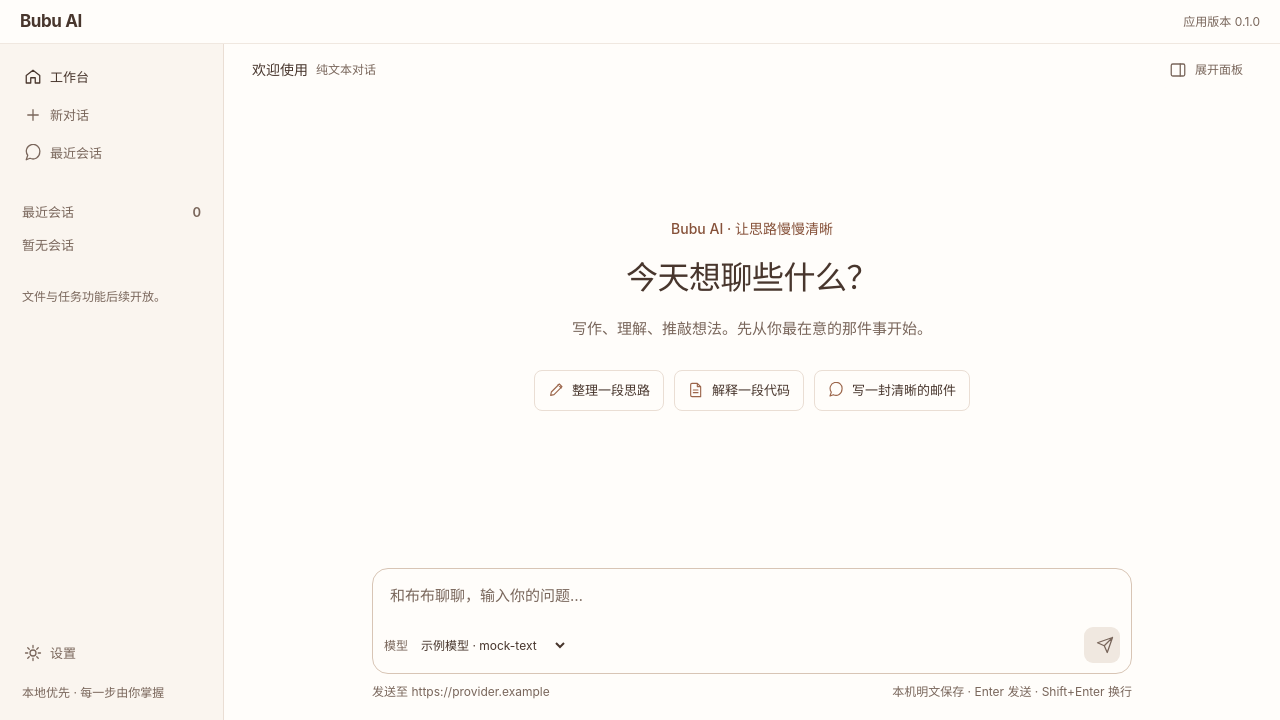
Test: real React text-chat UI with an explicitly mocked bridge › uses the real cancel API, preserves partial text and restores input focus after stop
This screenshot has width=1280, height=720.
Expected: the text "应用版本 0.1.0" is shown, [1183, 12, 1260, 31]
Type "你好，布布" into the text box named "消息输入". click: (752,597)
box: [373, 569, 1131, 625]
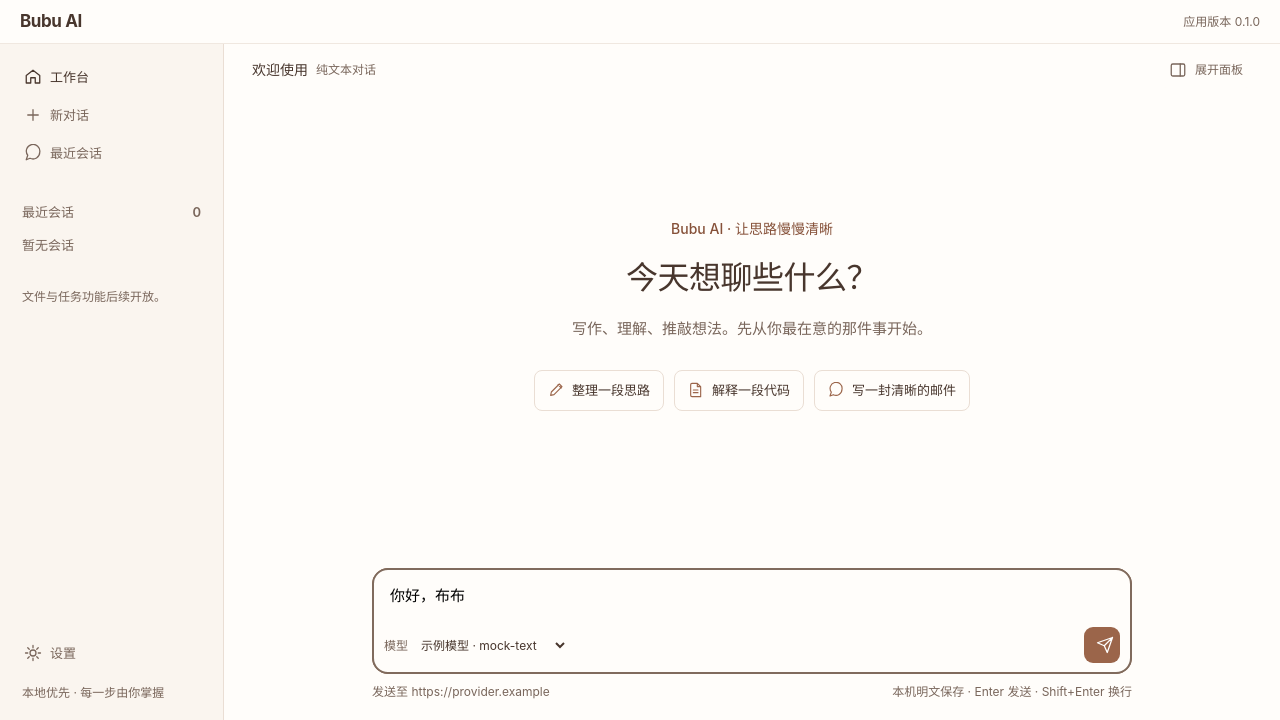
Click the button named "发送消息". click: (1102,645)
box: [1084, 627, 1120, 663]
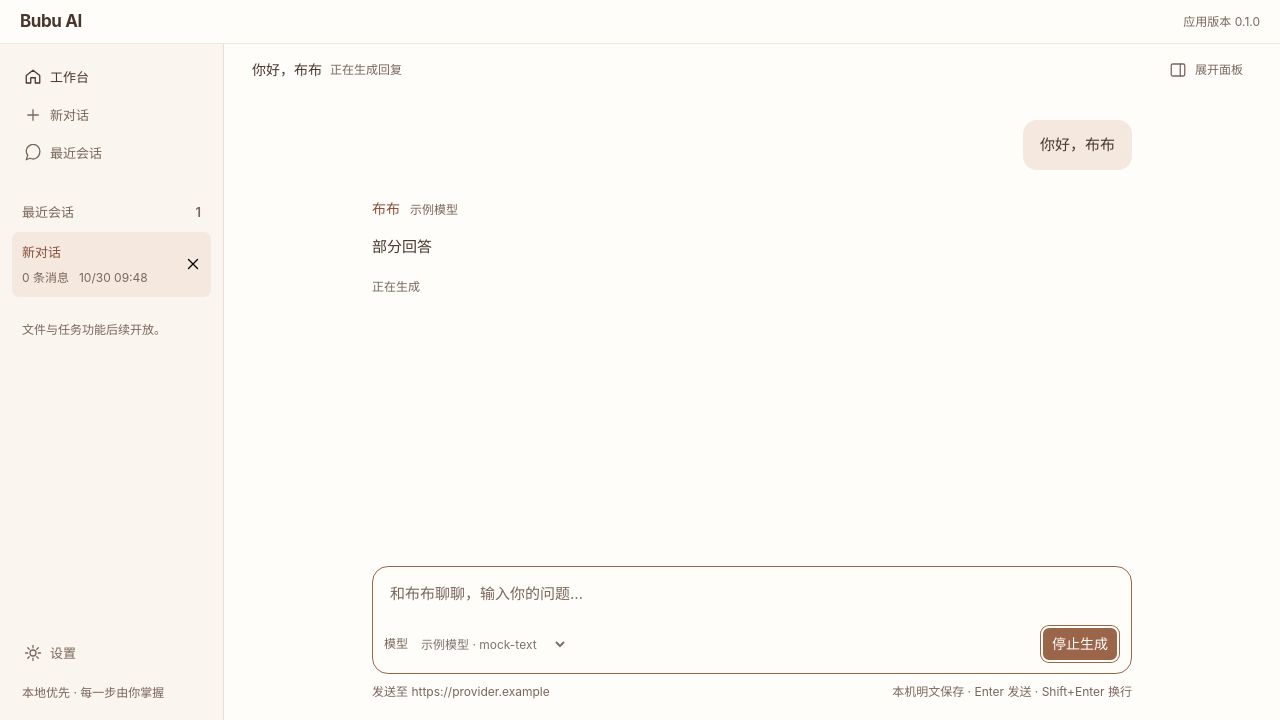
Click the button "停止生成". click: (1080,644)
box: [1040, 625, 1120, 663]
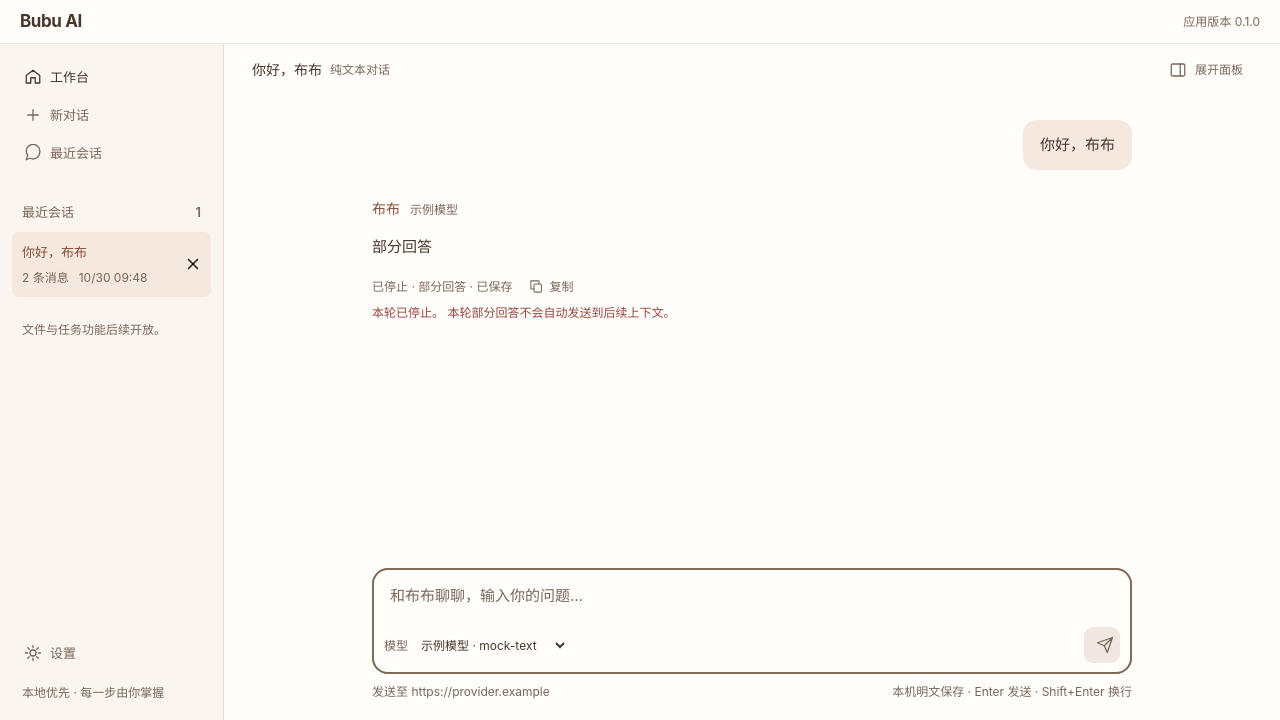
Expected: the text "部分回答" is shown, [372, 237, 432, 256]
Expected: the text "已停止 · 部分回答 · 已保存" is shown, [372, 277, 512, 296]
